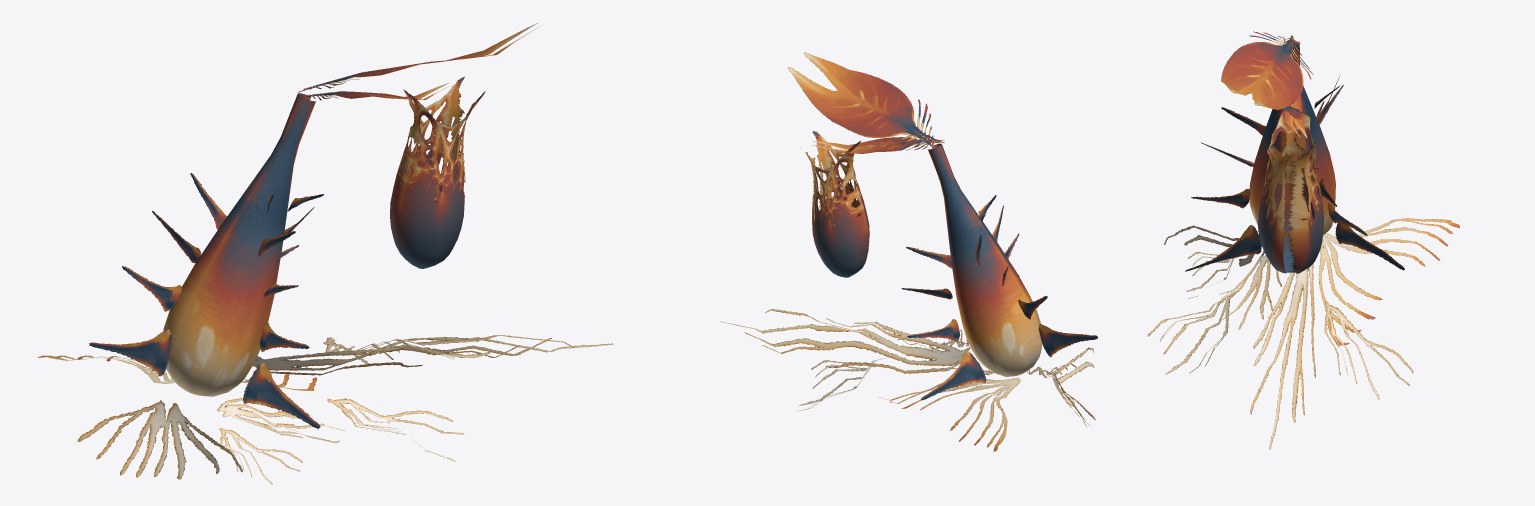
The picture shows the model from 3 angles, left to right: view 1: azimuth 30°, elevation 25°; view 2: azimuth 150°, elevation 25°; view 3: azimuth 270°, elevation 25°; orthographic projection. The views are drawn at different scales.
Parts seen in each view (by area): view 1: A04.004; view 2: A04.004; view 3: A04.004.
Boxes of the visible parts, x1,y1,x2,y2 form: A04.004: (38,23,613,484); A04.004: (720,52,1097,451); A04.004: (1147,31,1459,449).
Size of the model in its own units: 1023 by 722 by 681.
